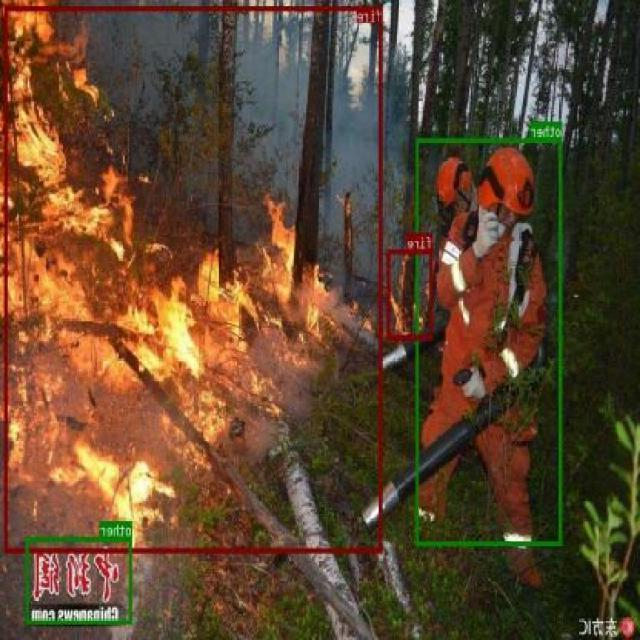Fire: (4, 5, 383, 553), (387, 248, 433, 339)
